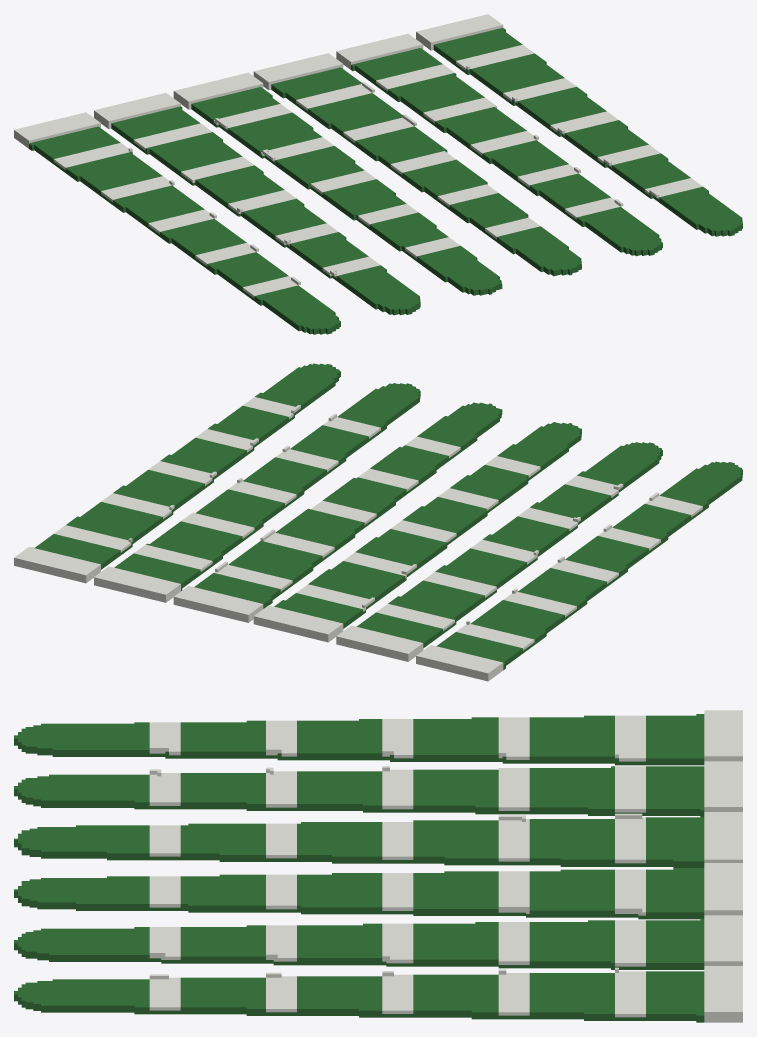
File: tentacle_stockings.glb
The picture shows the model from 3 angles, top to bottom: view 1: azimuth 30°, elevation 25°; view 2: azimuth 150°, elevation 25°; view 3: azimuth 270°, elevation 25°; orthographic projection. The views are drawn at different scales.
Parts seen in each view (by area): view 1: tentacle_stockings:compound; view 2: tentacle_stockings:compound; view 3: tentacle_stockings:compound.
Part boxes in pixels (bbox=[...]): tentacle_stockings:compound: bbox=[14, 14, 742, 334]; tentacle_stockings:compound: bbox=[14, 363, 742, 681]; tentacle_stockings:compound: bbox=[14, 710, 742, 1022].
Size of the model in its own units: 0.736 by 0.012 by 0.752.
